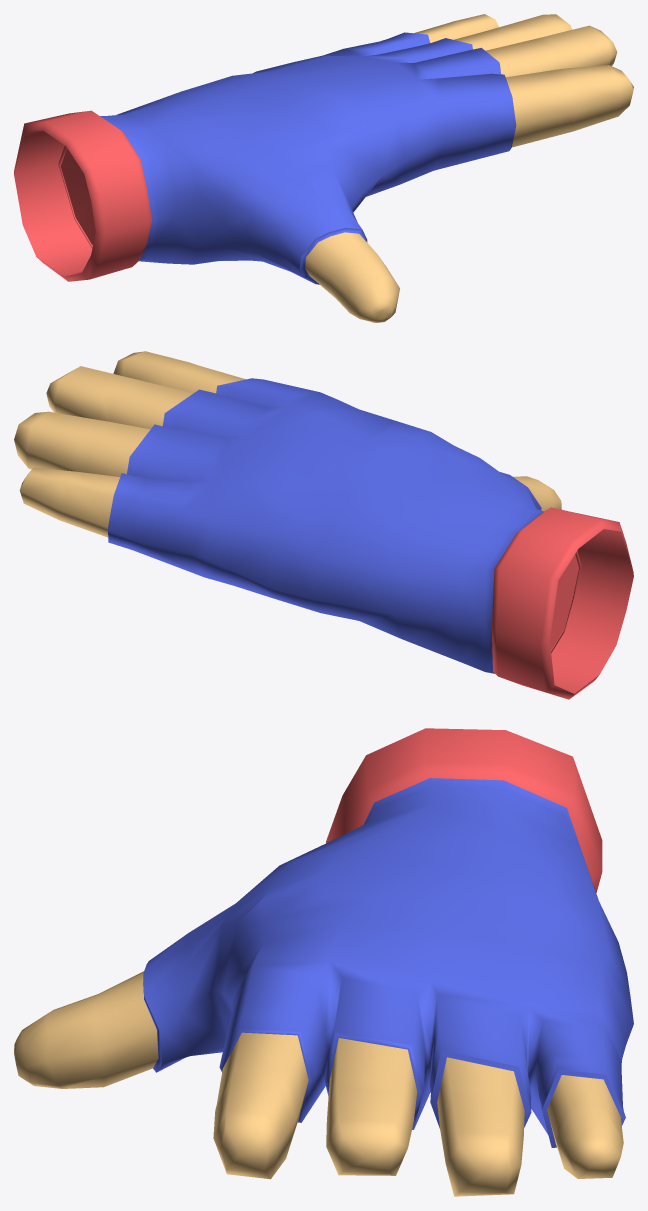
The model's file is Left_Arm_03_01.fbx.
3 views of the same model, one above another, from view 1: azimuth 30°, elevation 25°; view 2: azimuth 150°, elevation 25°; view 3: azimuth 270°, elevation 25° (orthographic). The views are drawn at different scales.
Parts seen in each view (by area): view 1: Left_Arm_03_01; view 2: Left_Arm_03_01; view 3: Left_Arm_03_01.
Boxes of the visible parts, left/top/right/bottom form: Left_Arm_03_01: left=14, top=14, right=633, bottom=322; Left_Arm_03_01: left=14, top=351, right=633, bottom=699; Left_Arm_03_01: left=14, top=728, right=633, bottom=1196.
Size of the model in its own units: 26.07 by 7.21 by 16.87.
